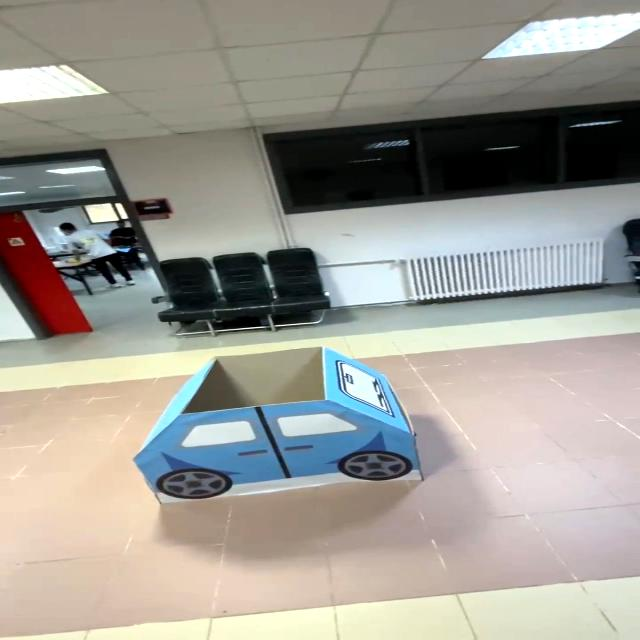blue_car: (113, 337, 452, 519)
